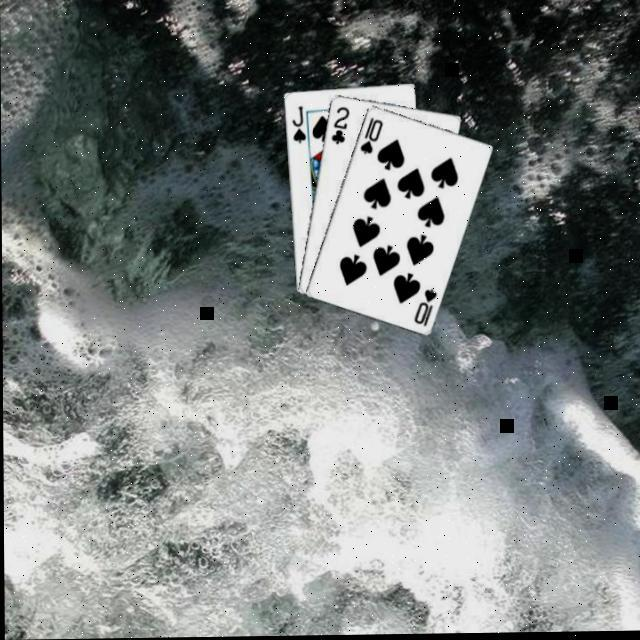10S: (358, 117, 386, 159), (413, 288, 441, 330)
2C: (330, 106, 353, 148)
JS: (291, 105, 309, 147)
